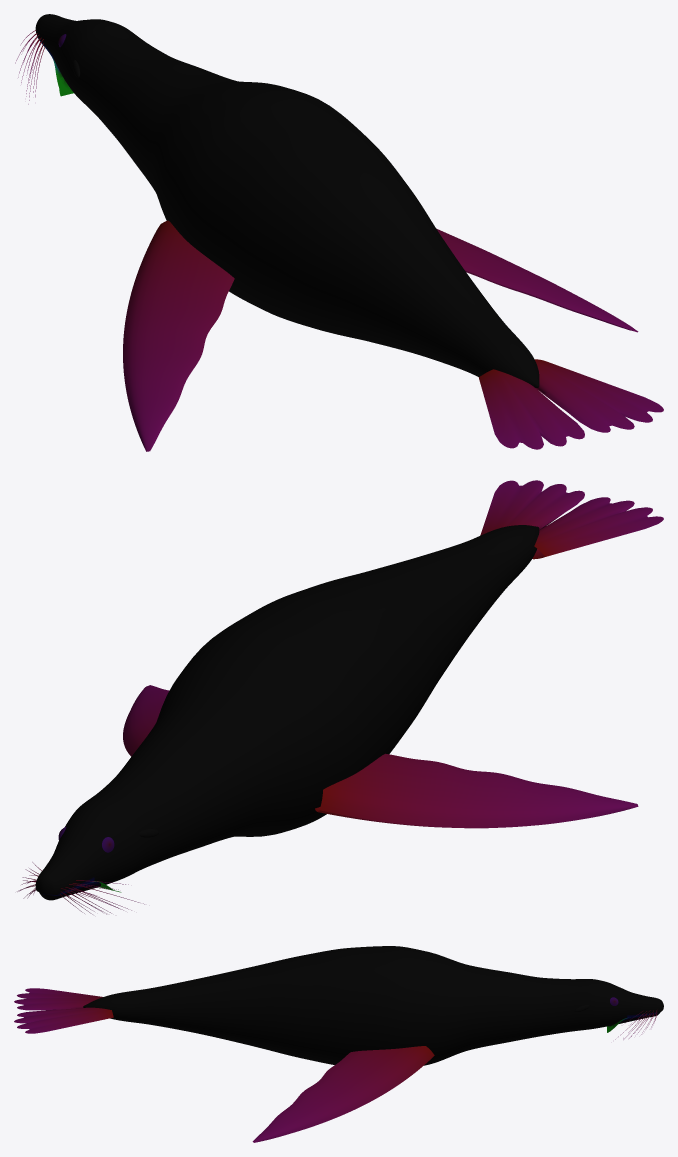
The model's file is sea_lion.glb.
3 views of the same model, one above another, from view 1: azimuth 30°, elevation 25°; view 2: azimuth 150°, elevation 25°; view 3: azimuth 270°, elevation 25° (orthographic). The views are drawn at different scales.
Visible parts, largest first — view 1: sea_lion; view 2: sea_lion; view 3: sea_lion.
Boxes of the visible parts, x1,y1,x2,y2 form: sea_lion: (15, 14, 663, 451); sea_lion: (17, 480, 663, 914); sea_lion: (14, 946, 663, 1142).
Size of the model in its own units: 1.13 by 0.4499 by 2.2.
